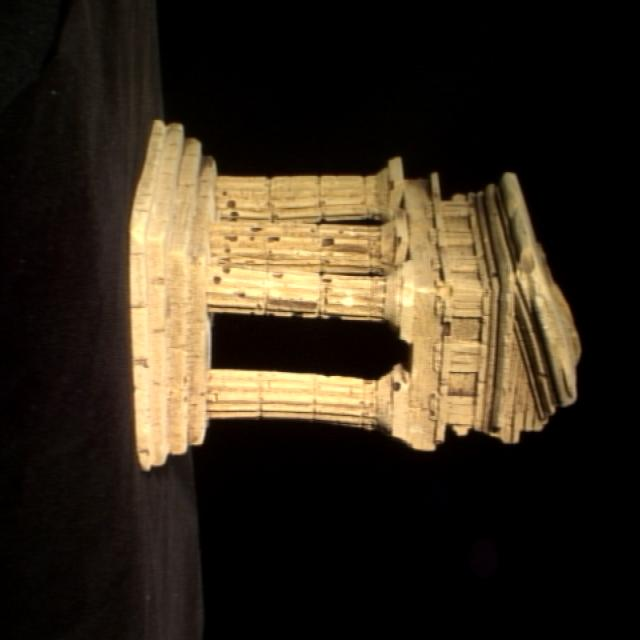Instance-Segmentation: (130, 120, 580, 469)
